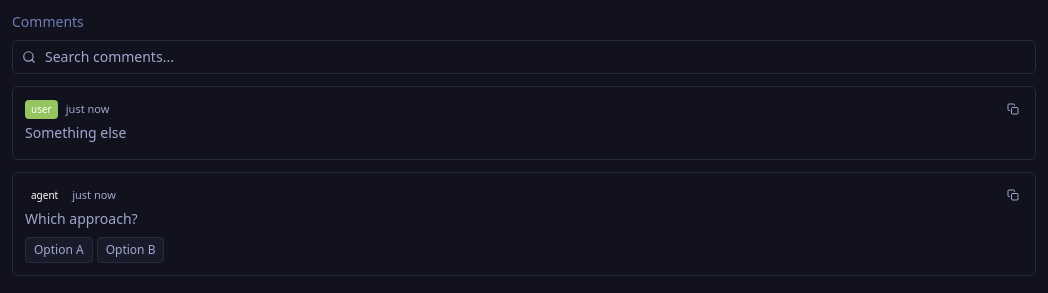
Test: CommentsList › comment search › should still render option buttons on filtered comments
The image size is (1048, 293).
Type "approach" into the field with test id "comment-search-input". click: (524, 57)
box: [12,40,1036,74]
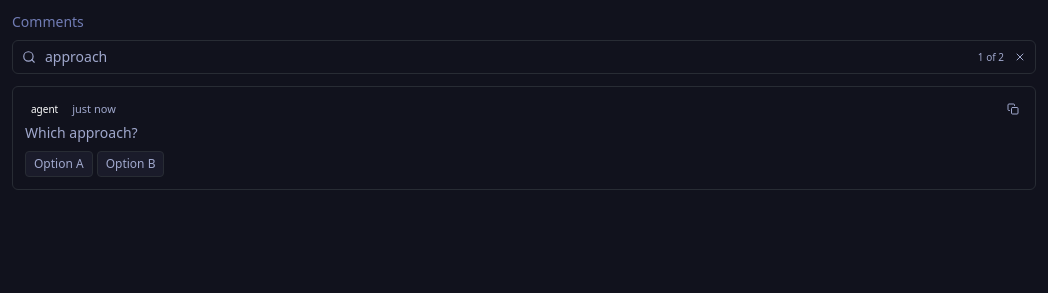
Expected: the text "Which approach?" is shown, [25,123,138,142]
Now the text "Something else" is gone
